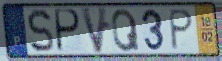3: (139, 8, 167, 53)
P: (54, 8, 82, 54), (169, 8, 195, 52)
Q: (110, 7, 141, 54)
S: (26, 7, 56, 54)
V: (79, 6, 110, 56)
